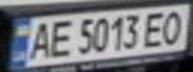0: (90, 15, 112, 53)
1: (109, 12, 127, 51)
3: (121, 11, 145, 50)
5: (75, 16, 96, 55)
A: (24, 19, 54, 61)
E: (45, 17, 75, 59), (139, 9, 169, 48)
O: (157, 7, 190, 45)
